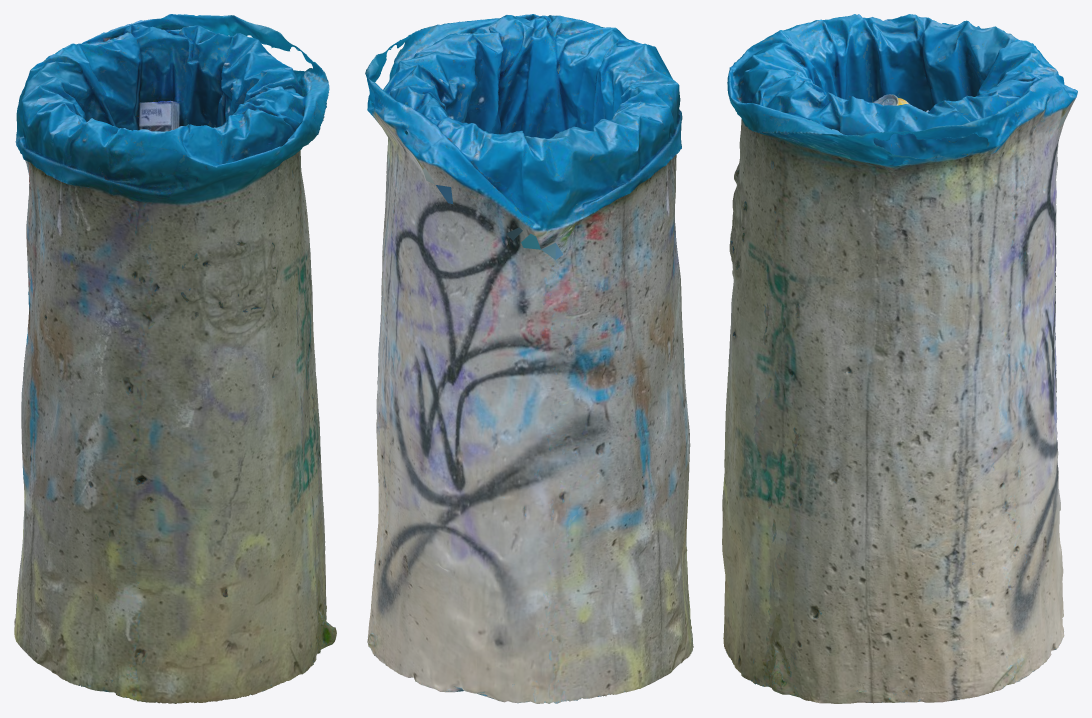
File: muelleimer.gltf
3 views of the same model, side by side, from view 1: azimuth 30°, elevation 25°; view 2: azimuth 150°, elevation 25°; view 3: azimuth 270°, elevation 25° (orthographic). The views are drawn at different scales.
Parts seen in each view (by area): view 1: Object_2, Object_4, Object_3, Object_5; view 2: Object_2, Object_3, Object_4, Object_5; view 3: Object_5, Object_4, Object_2, Object_3.
Boxes of the visible parts, x1,y1,x2,y2 form: Object_2: (15,35,318,701); Object_4: (14,14,336,703); Object_3: (16,40,329,584); Object_5: (16,15,325,630); Object_2: (392,38,693,644); Object_3: (368,14,689,604); Object_4: (367,15,693,703); Object_5: (365,14,688,702); Object_5: (722,20,1064,683); Object_4: (722,14,1077,703); Object_2: (722,33,1063,702); Object_3: (724,14,1070,548).
Size of the model in its own units: 0.5233 by 1.04 by 0.569.
1 material, 1 textured.
